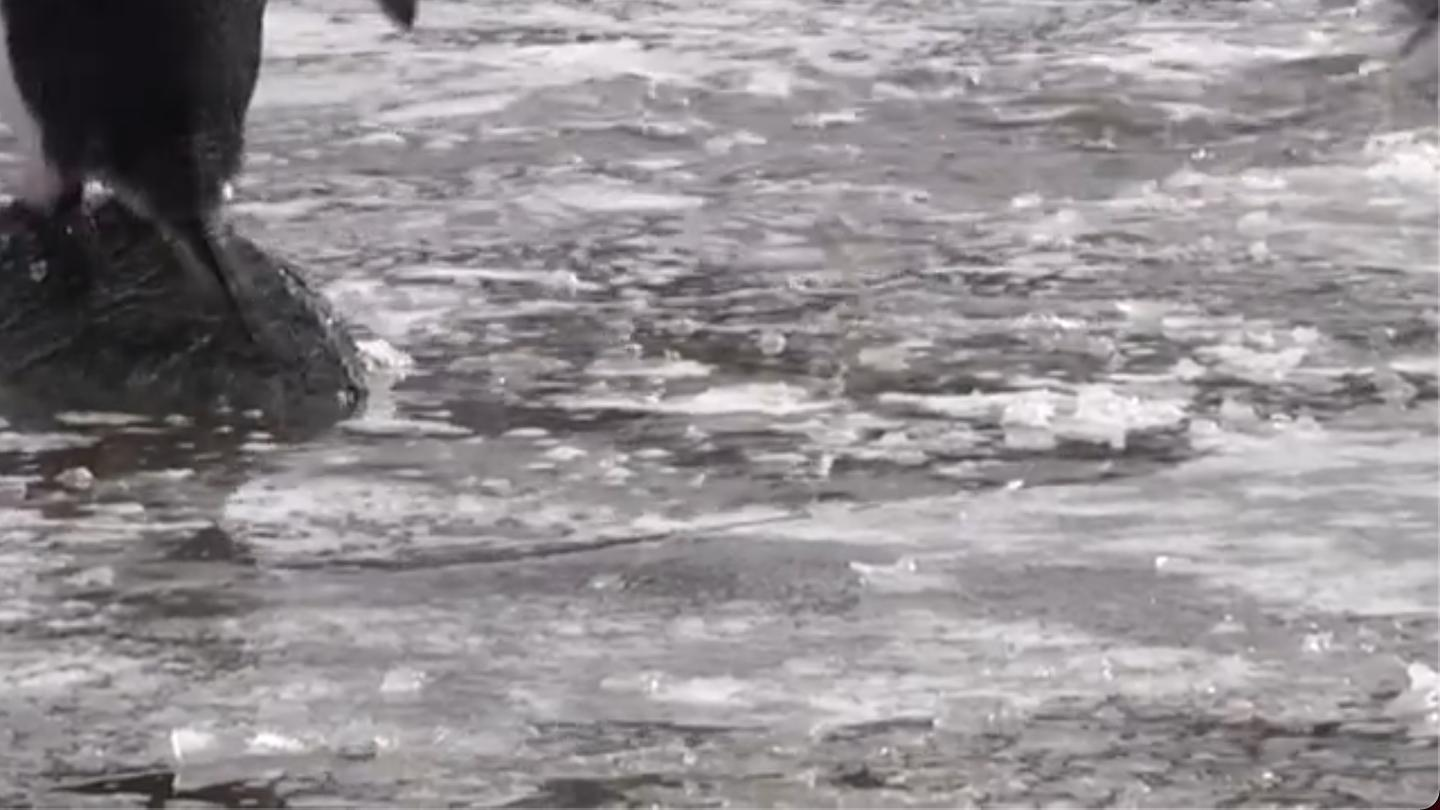Chinstrap Penguin: (6, 0, 439, 226), (0, 0, 3, 413)
